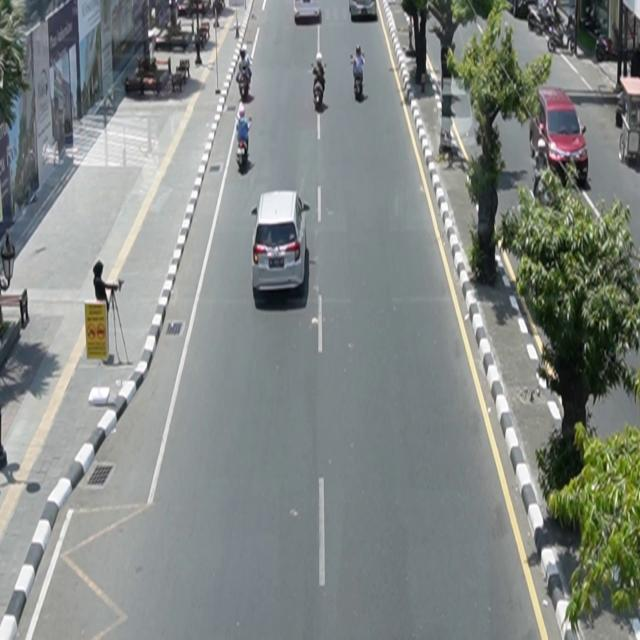car: (251, 190, 311, 296), (530, 86, 590, 187), (350, 1, 378, 21)
